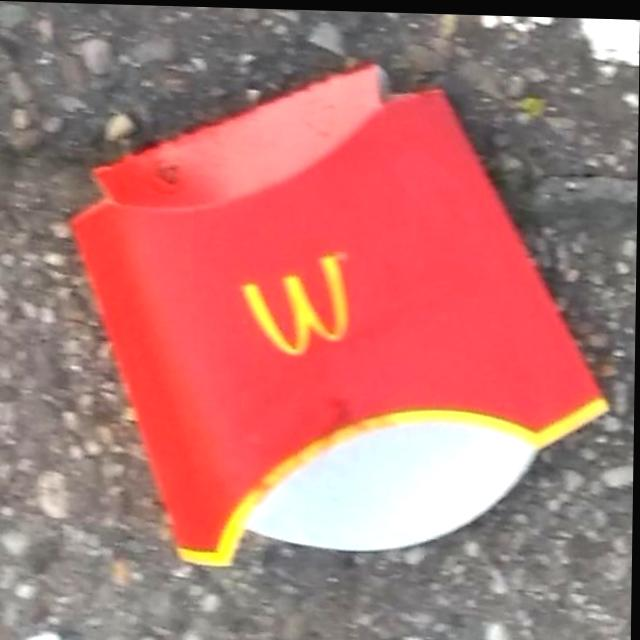Paper: (58, 46, 621, 579)
